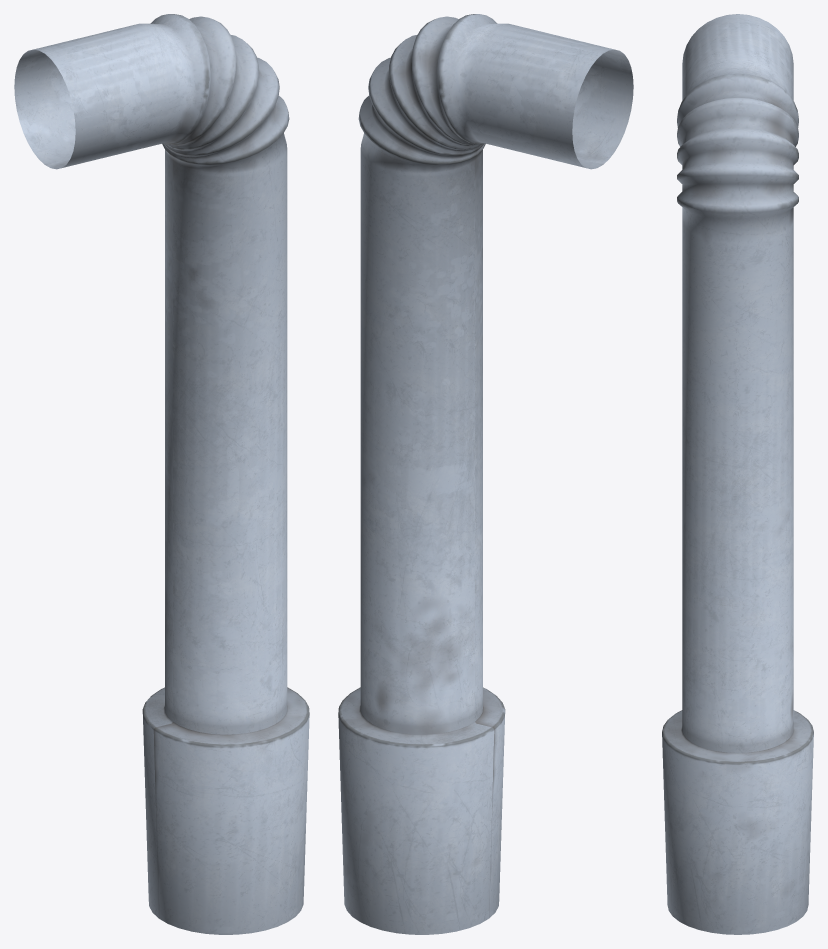
Rendered from pipe_01.gltf.
3 views of the same model, side by side, from view 1: azimuth 30°, elevation 25°; view 2: azimuth 150°, elevation 25°; view 3: azimuth 270°, elevation 25° (orthographic). The views are drawn at different scales.
Parts seen in each view (by area): view 1: pipe_01; view 2: pipe_01; view 3: pipe_01.
Boxes of the visible parts, <box> form: pipe_01: <box>14,14,309,934</box>; pipe_01: <box>338,14,633,934</box>; pipe_01: <box>662,14,813,934</box>.
Size of the model in its own units: 0.7166 by 2.41 by 0.4094.
1 material, 1 textured.
